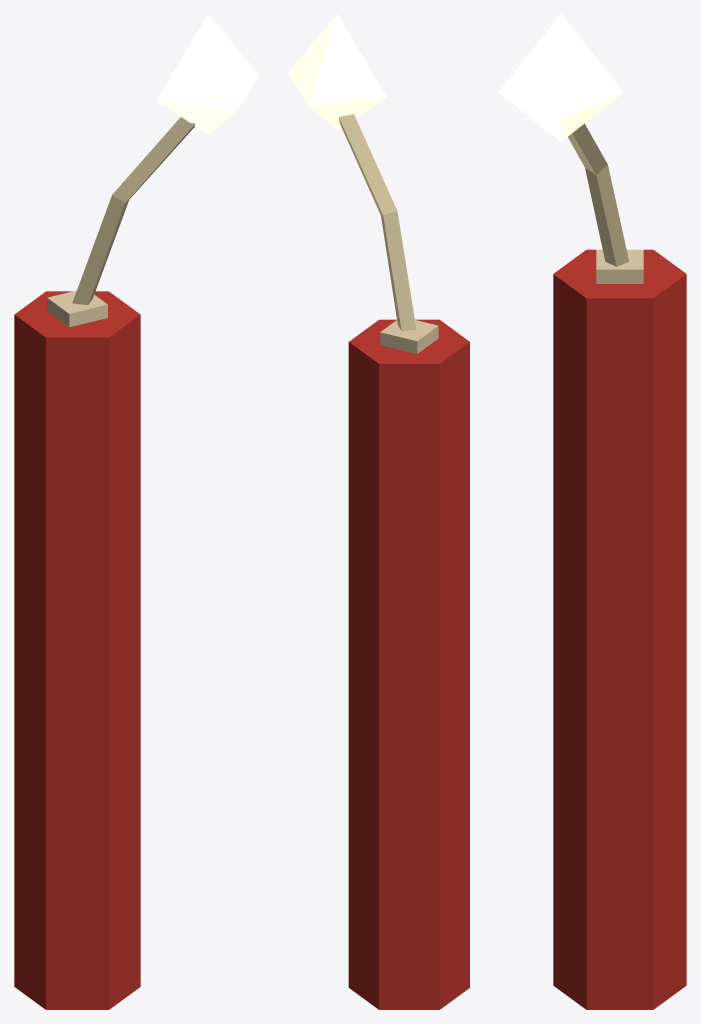
The model's file is SM_DynamiteStick.fbx.
The picture shows the model from 3 angles, left to right: view 1: azimuth 30°, elevation 25°; view 2: azimuth 150°, elevation 25°; view 3: azimuth 270°, elevation 25°; orthographic projection. The views are drawn at different scales.
Visible parts, largest first — view 1: Prop_DynamiteStick; view 2: Prop_DynamiteStick; view 3: Prop_DynamiteStick.
Part boxes in pixels (x1,y1,x2,y2): Prop_DynamiteStick: [14, 14, 259, 1009]; Prop_DynamiteStick: [288, 14, 469, 1009]; Prop_DynamiteStick: [498, 14, 686, 1009].
Size of the model in its own units: 7.84 by 6 by 36.
